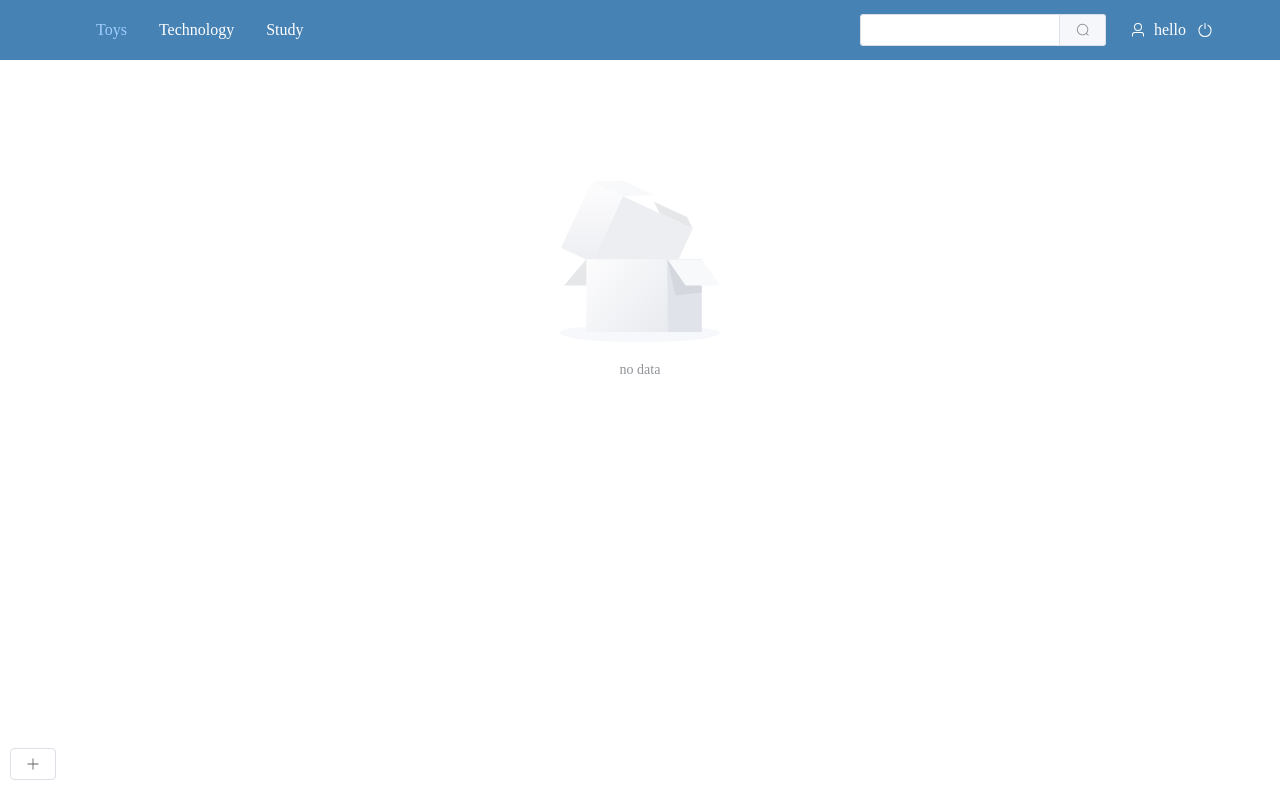
Test: logout › logout
The image size is (1280, 800).
Click the button with class "logout": (1205, 30) [1194, 19, 1216, 41]
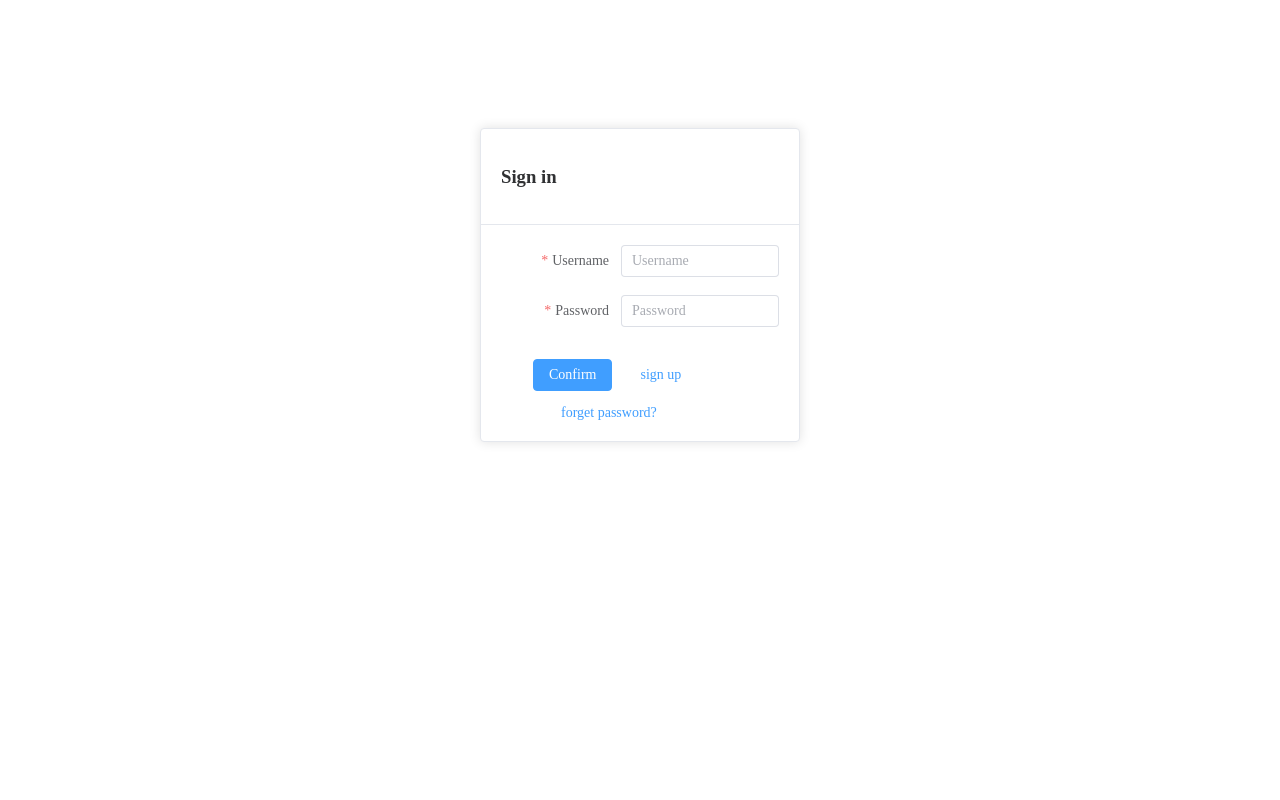
Expected: the heading "Sign in" is shown, [501, 166, 557, 187]
